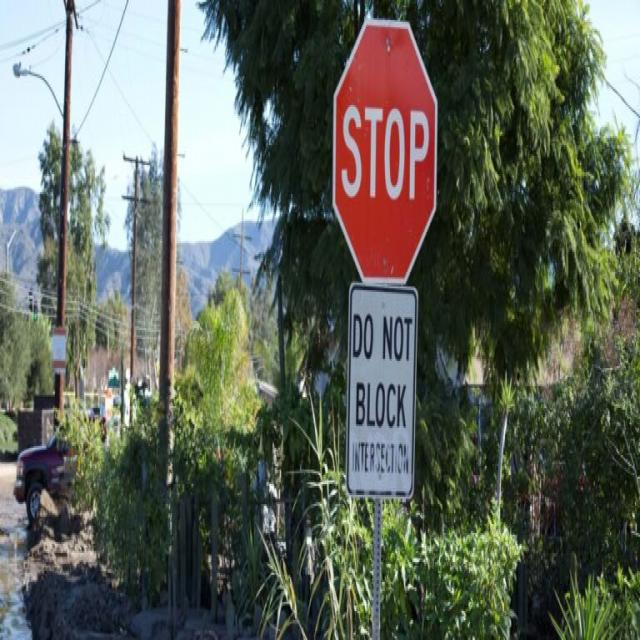stop: (332, 16, 439, 287)
